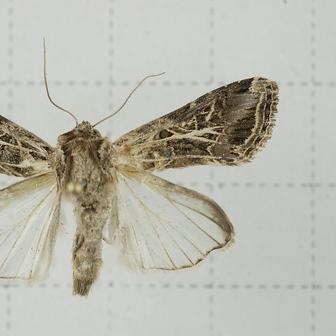Spodoptera litura: (1, 36, 280, 299)
